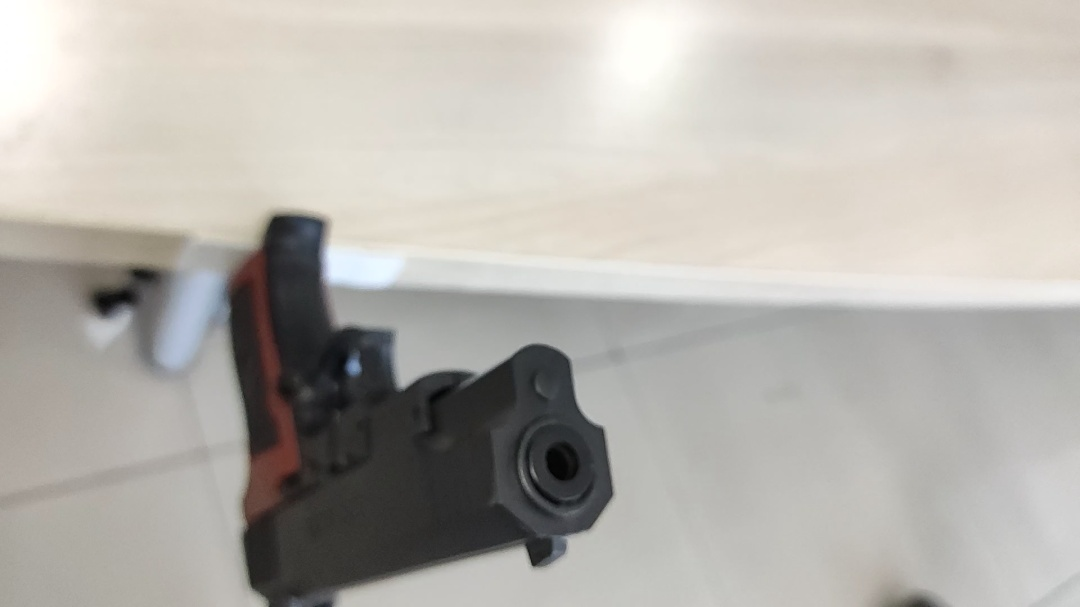gun: (387, 326, 417, 364)
